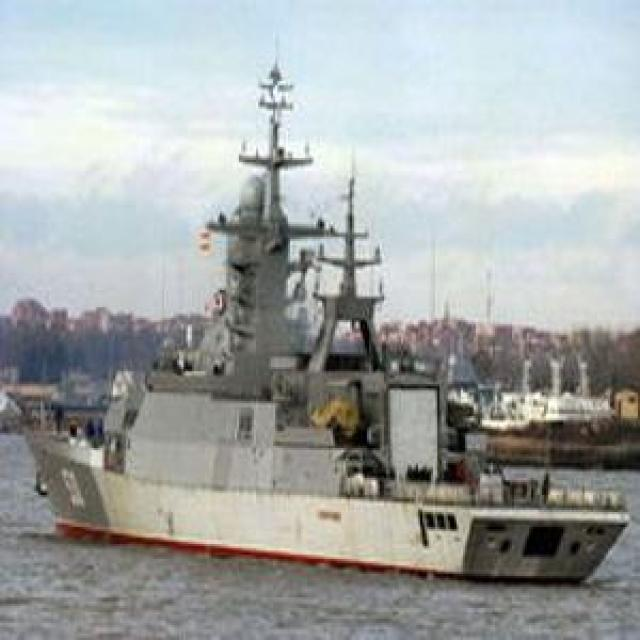navalvessels: (29, 48, 626, 582)
